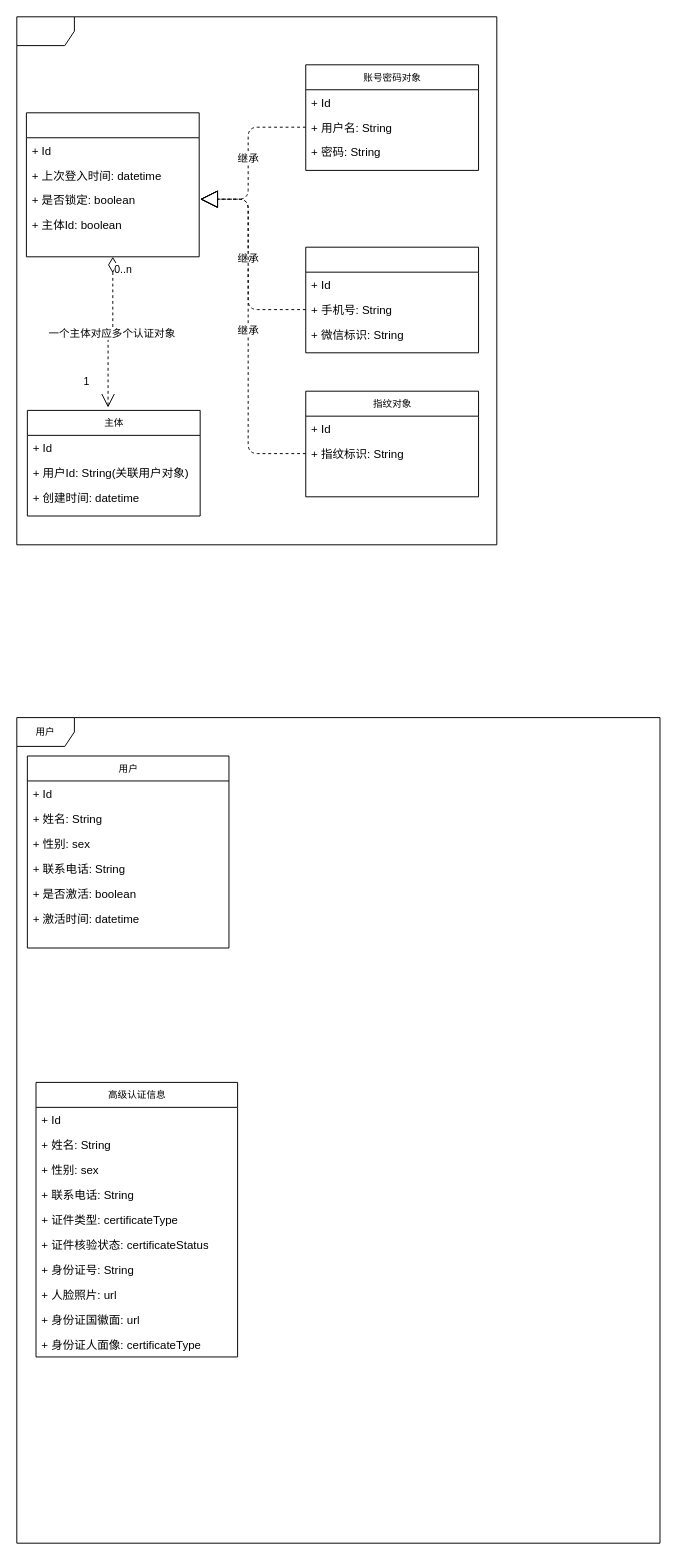
Image size: 677x1560. Some labels were removed from this diagram. Here are the shapes that lost their labels. From the top down, the box of each, then its label:
(25, 112, 199, 257): 认证对象
(16, 16, 497, 545): 认证中心
(305, 246, 479, 353): 微信认证对象
